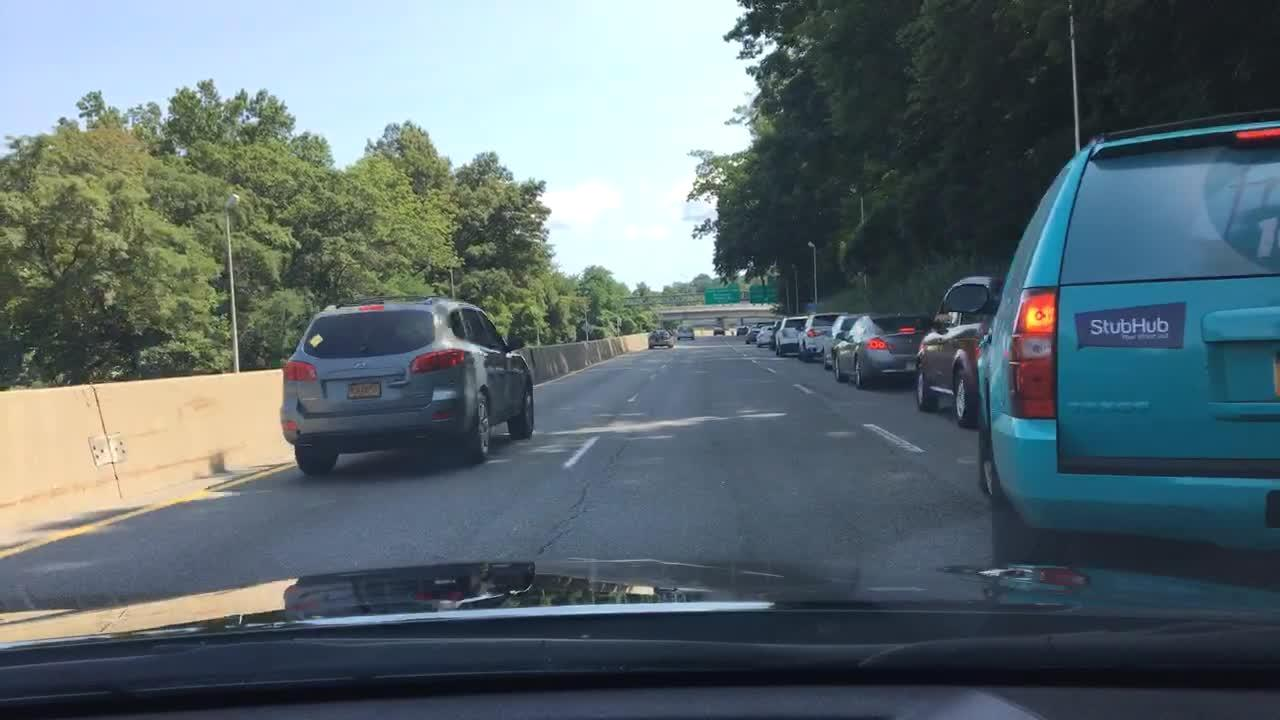Hyundai: (345, 355, 373, 373)
